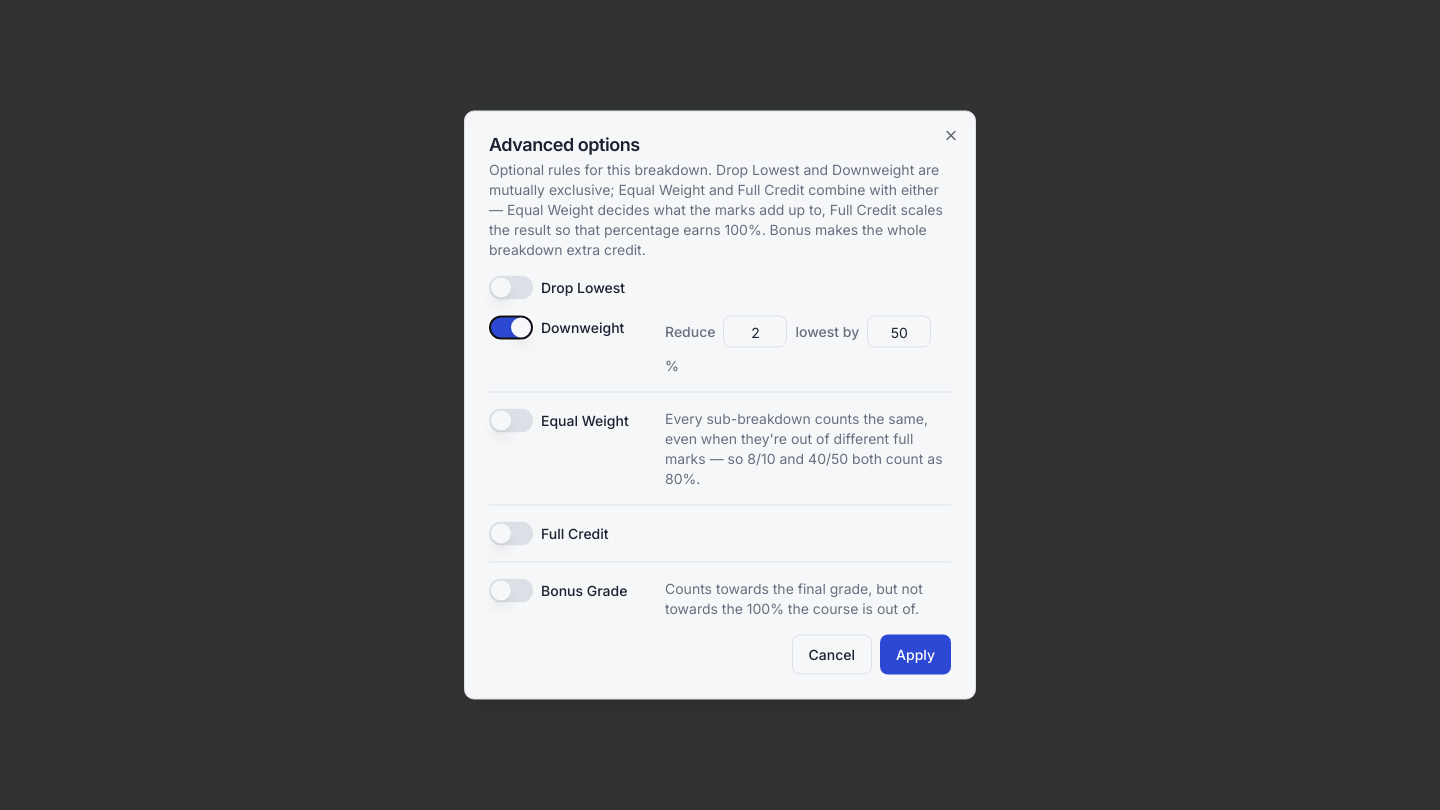
it: AdvancedOptionsDialog › names every empty box at once, not just the first
The image size is (1440, 810).
Clear the number field named "Number to downweight" at {"x": 756, "y": 332}, box [724,316,788,348]
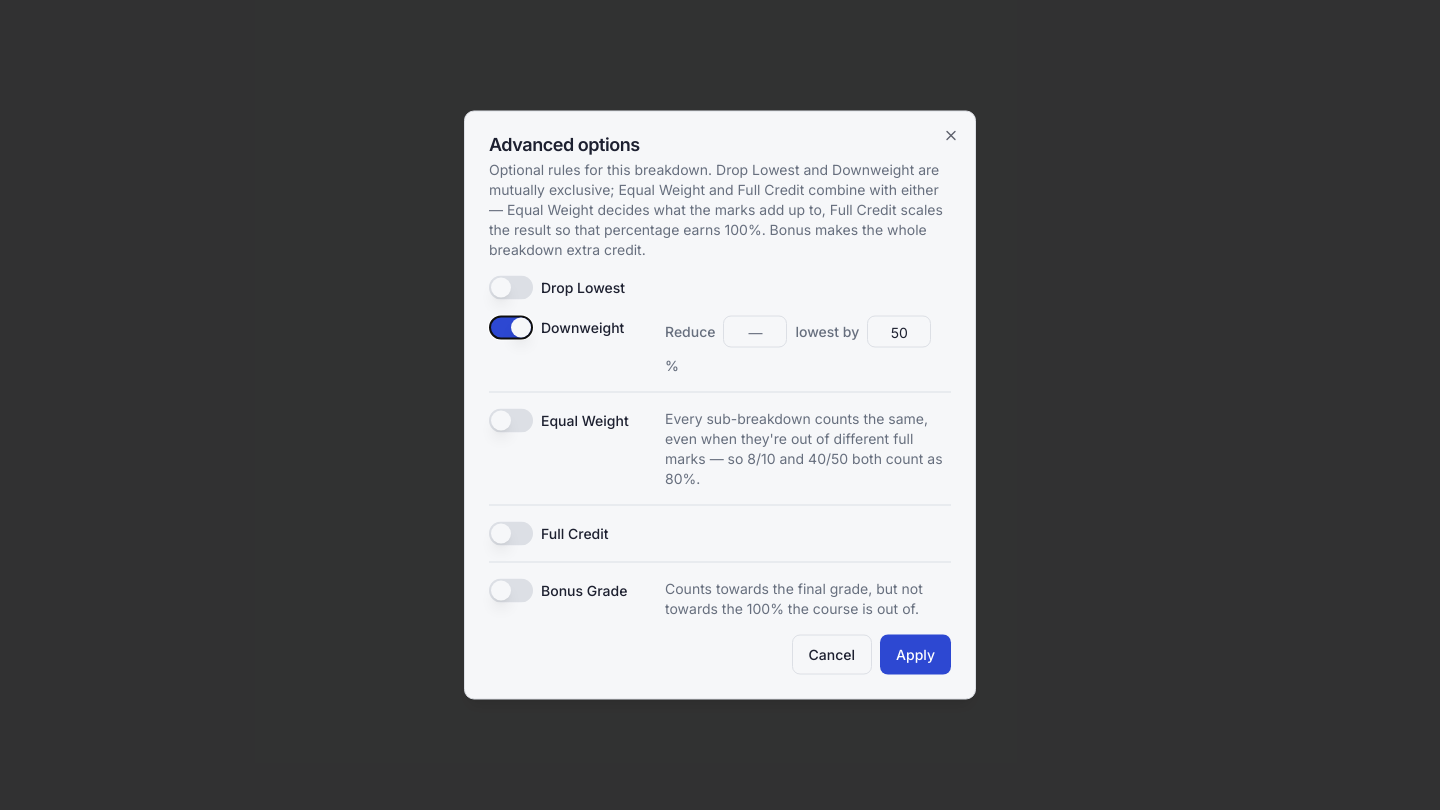
Clear the number field named "Downweight percentage" at {"x": 899, "y": 332}, box [867,316,931,348]
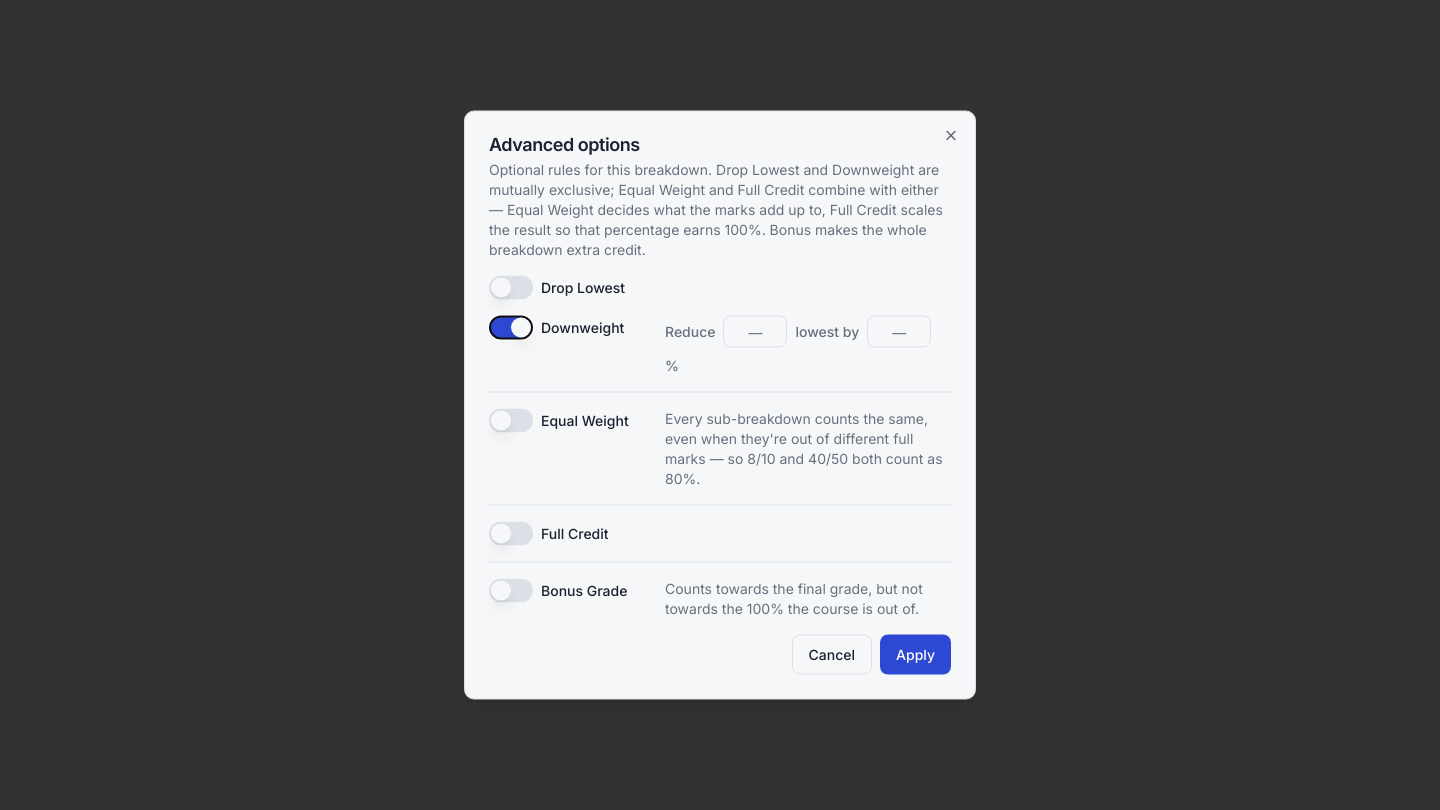
Click the button "Apply" at {"x": 916, "y": 654}, box [880,634,951,674]
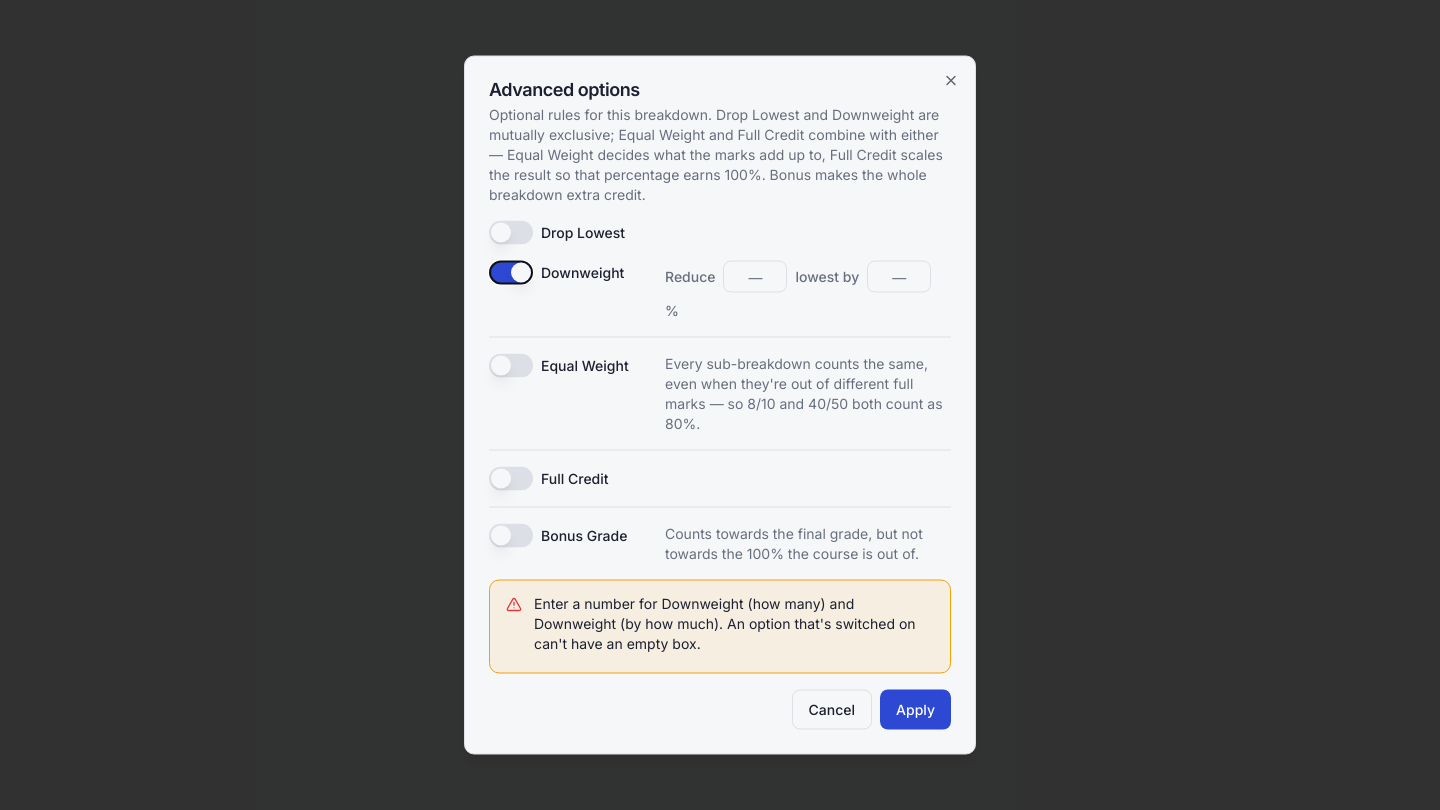
Expected: the text "can't have an empty box" shows "and", [534,594,916,652]
